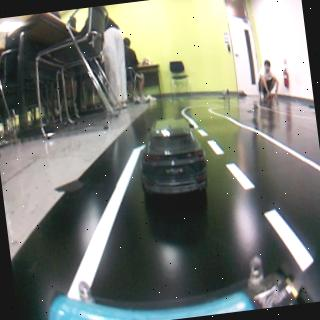car: (133, 114, 209, 202)
